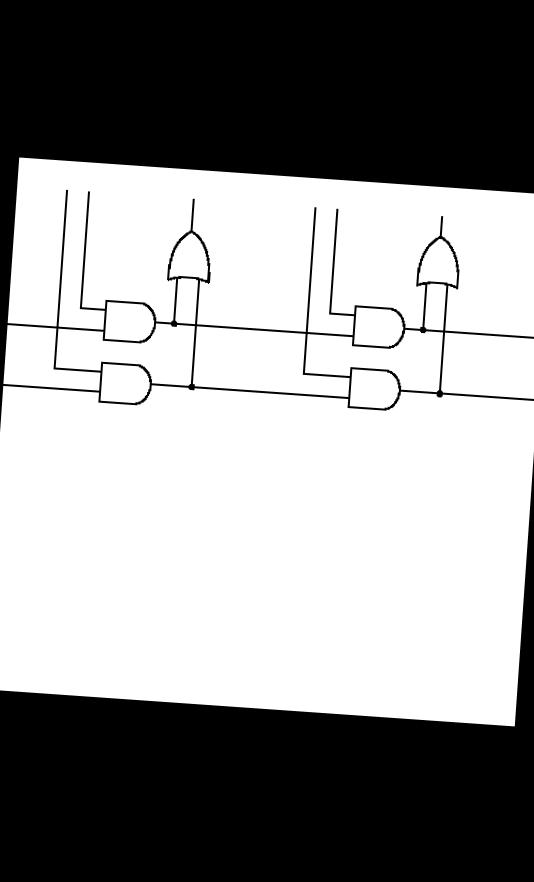and: (84, 348, 166, 418), (334, 353, 414, 422), (93, 288, 165, 359), (338, 294, 416, 358)
or: (402, 220, 480, 301), (158, 216, 226, 296)
